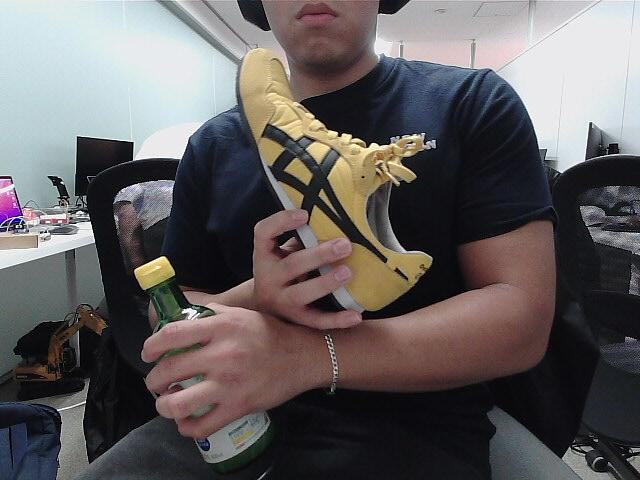Lemon_sapporo: (134, 255, 282, 474)
Shoes: (238, 48, 434, 313)
